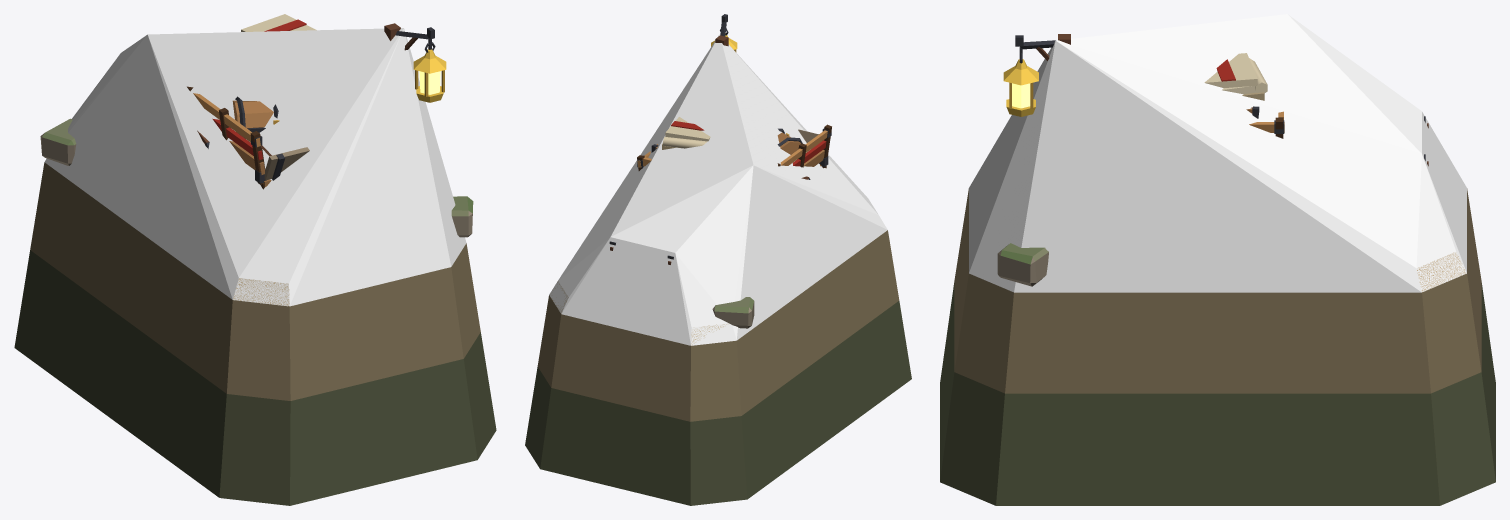
The model's file is pirate_tavern_supply_cart.glb.
3 views of the same model, side by side, from view 1: azimuth 30°, elevation 25°; view 2: azimuth 150°, elevation 25°; view 3: azimuth 270°, elevation 25° (orthographic). The views are drawn at different scales.
Visible parts, largest first — view 1: PirateTavernSupplyCart, col_cart_body; view 2: PirateTavernSupplyCart, col_cart_body; view 3: PirateTavernSupplyCart, col_cart_body.
Boxes of the visible parts, x1=… form: PirateTavernSupplyCart: x1=14, y1=14, x2=496, y2=505; col_cart_body: x1=44, y1=28, x2=466, y2=306; PirateTavernSupplyCart: x1=525, y1=14, x2=911, y2=505; col_cart_body: x1=549, y1=34, x2=887, y2=345; PirateTavernSupplyCart: x1=940, y1=34, x2=1495, y2=505; col_cart_body: x1=969, y1=14, x2=1466, y2=292.
Size of the model in its own units: 3.84 by 5.38 by 6.16.
